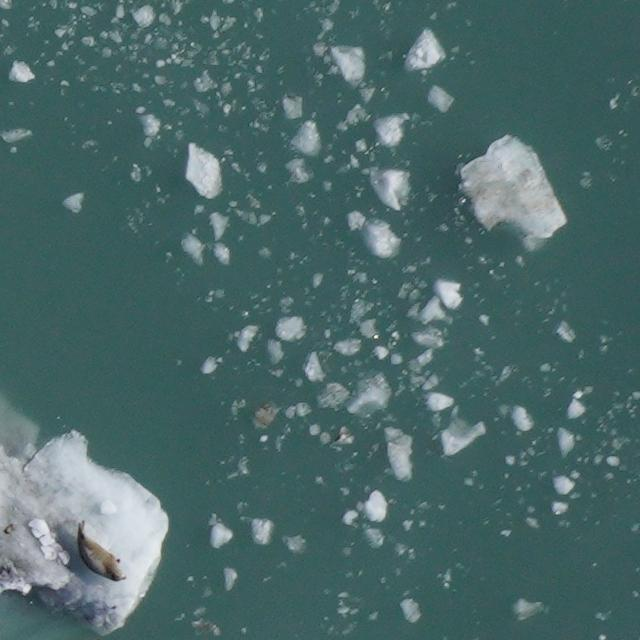seal: (69, 516, 129, 586)
